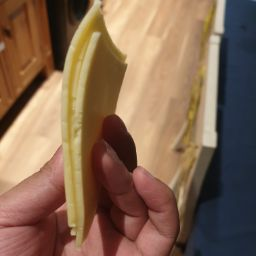Cheddar cheese: (49, 2, 111, 244)
